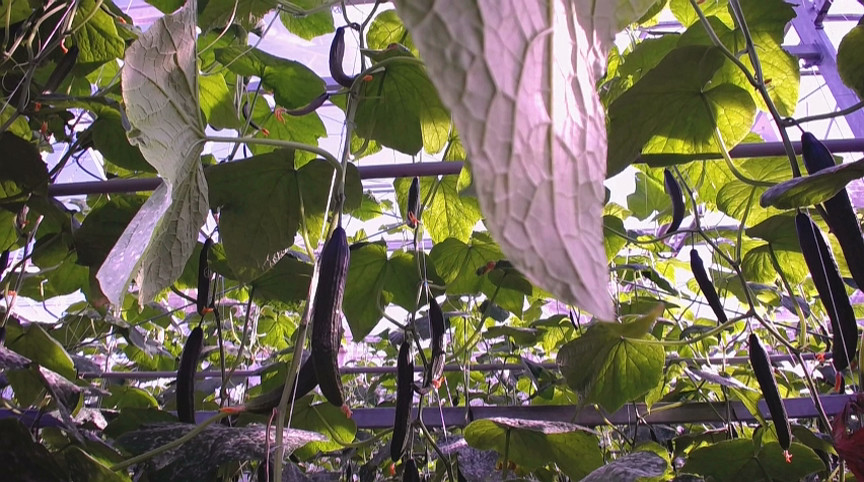cucumber: (794, 213, 858, 372), (799, 133, 864, 289), (748, 333, 793, 451), (321, 227, 350, 405), (689, 249, 729, 323), (175, 329, 205, 424), (391, 344, 415, 460), (426, 302, 447, 387), (329, 28, 359, 87), (196, 239, 213, 319), (665, 167, 683, 234)
